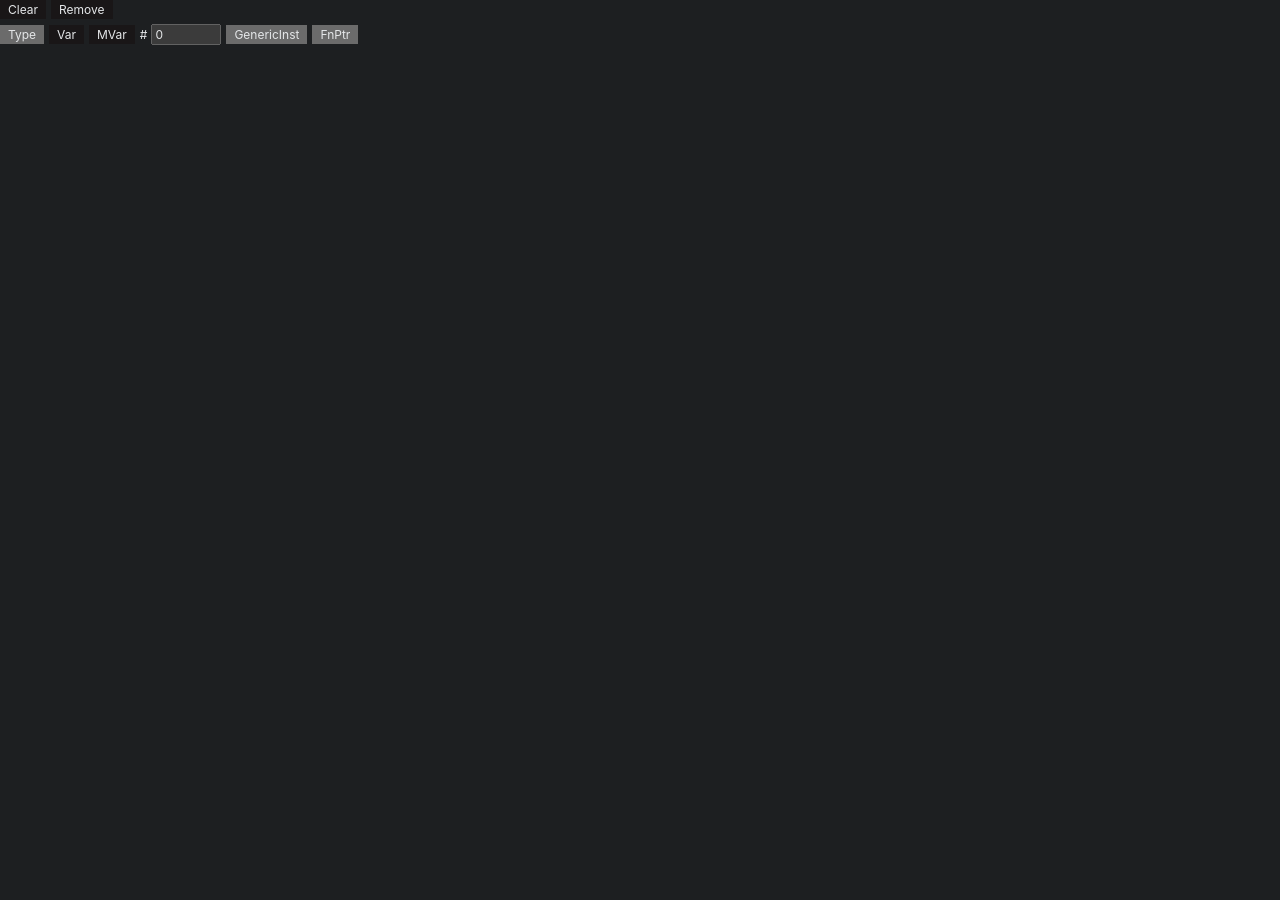
Scenario: TypeSigEditor › reports a generic type the backend will not describe
The image size is (1280, 900).
Click the button "GenericInst". click: (267, 34)
box: [226, 25, 307, 44]
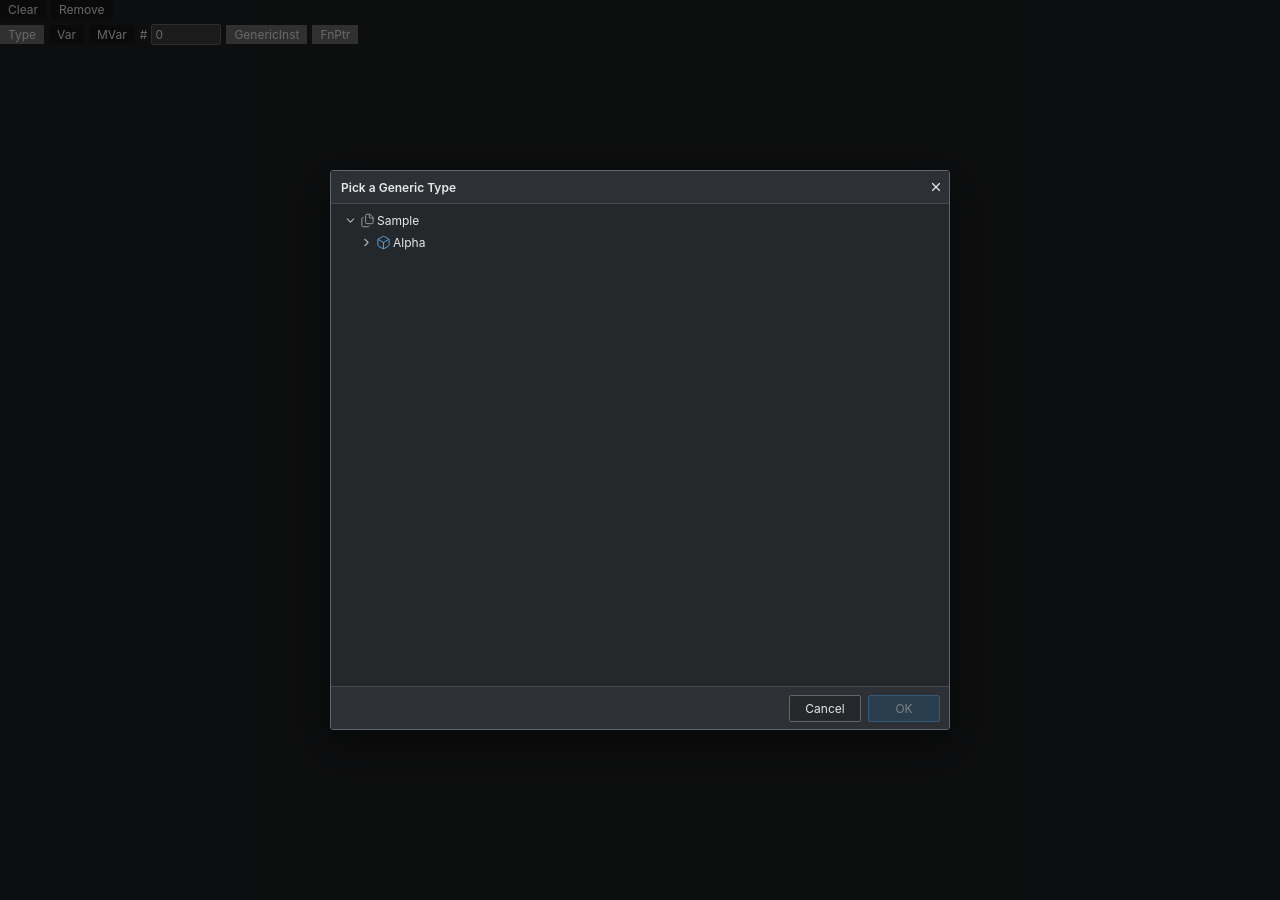
Expected: the text "Sample" is shown, [377, 212, 419, 228]
Click the button named "Expand". click: (366, 242)
box: [358, 233, 374, 251]
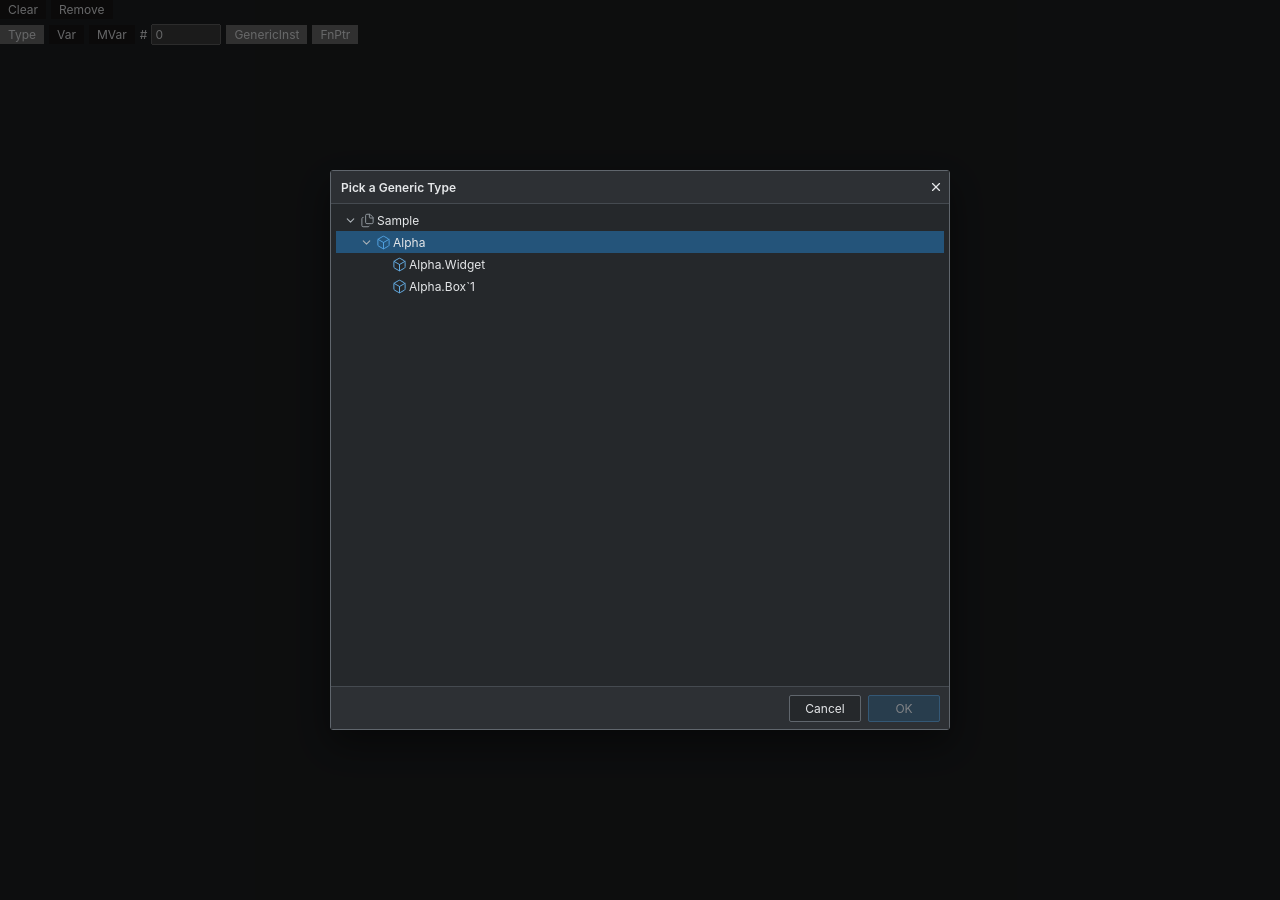
Click the text "Alpha.Box`1". click: (442, 286)
box: [409, 278, 475, 294]
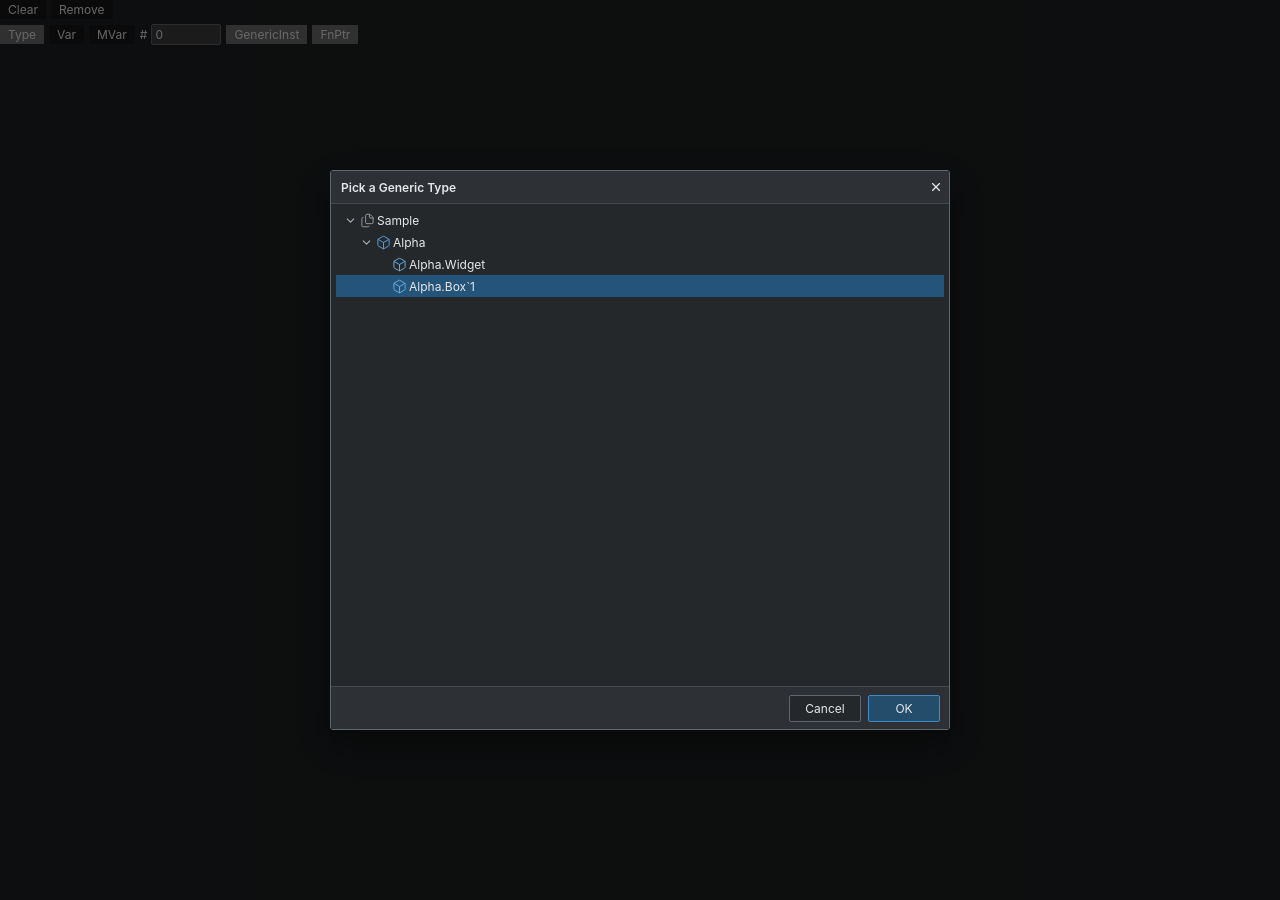
Click the button "OK". click: (904, 708)
box: [868, 694, 940, 722]
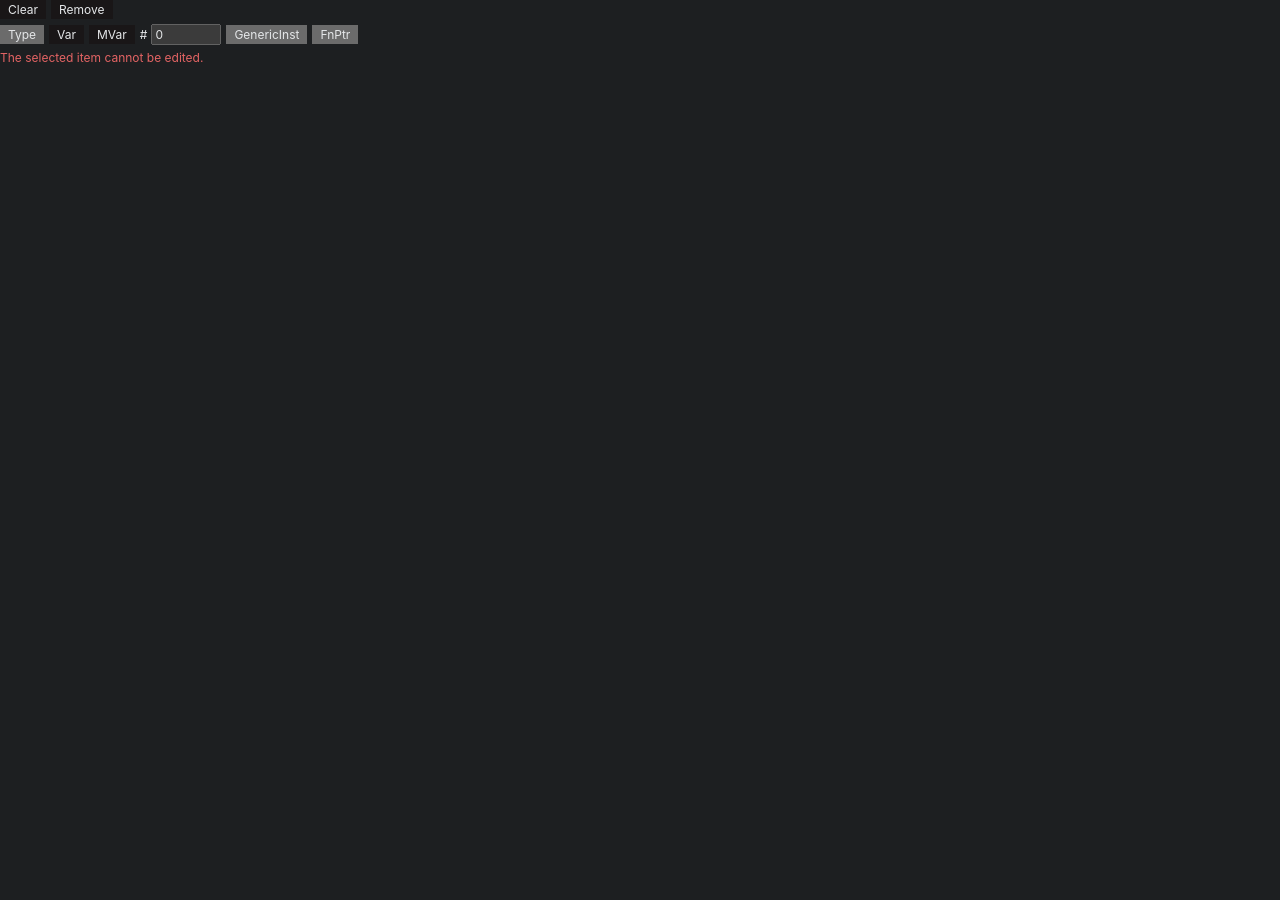
Expected: the dialog is gone
Expected: the text "The selected item cannot be edited." is shown, [0, 50, 203, 65]
